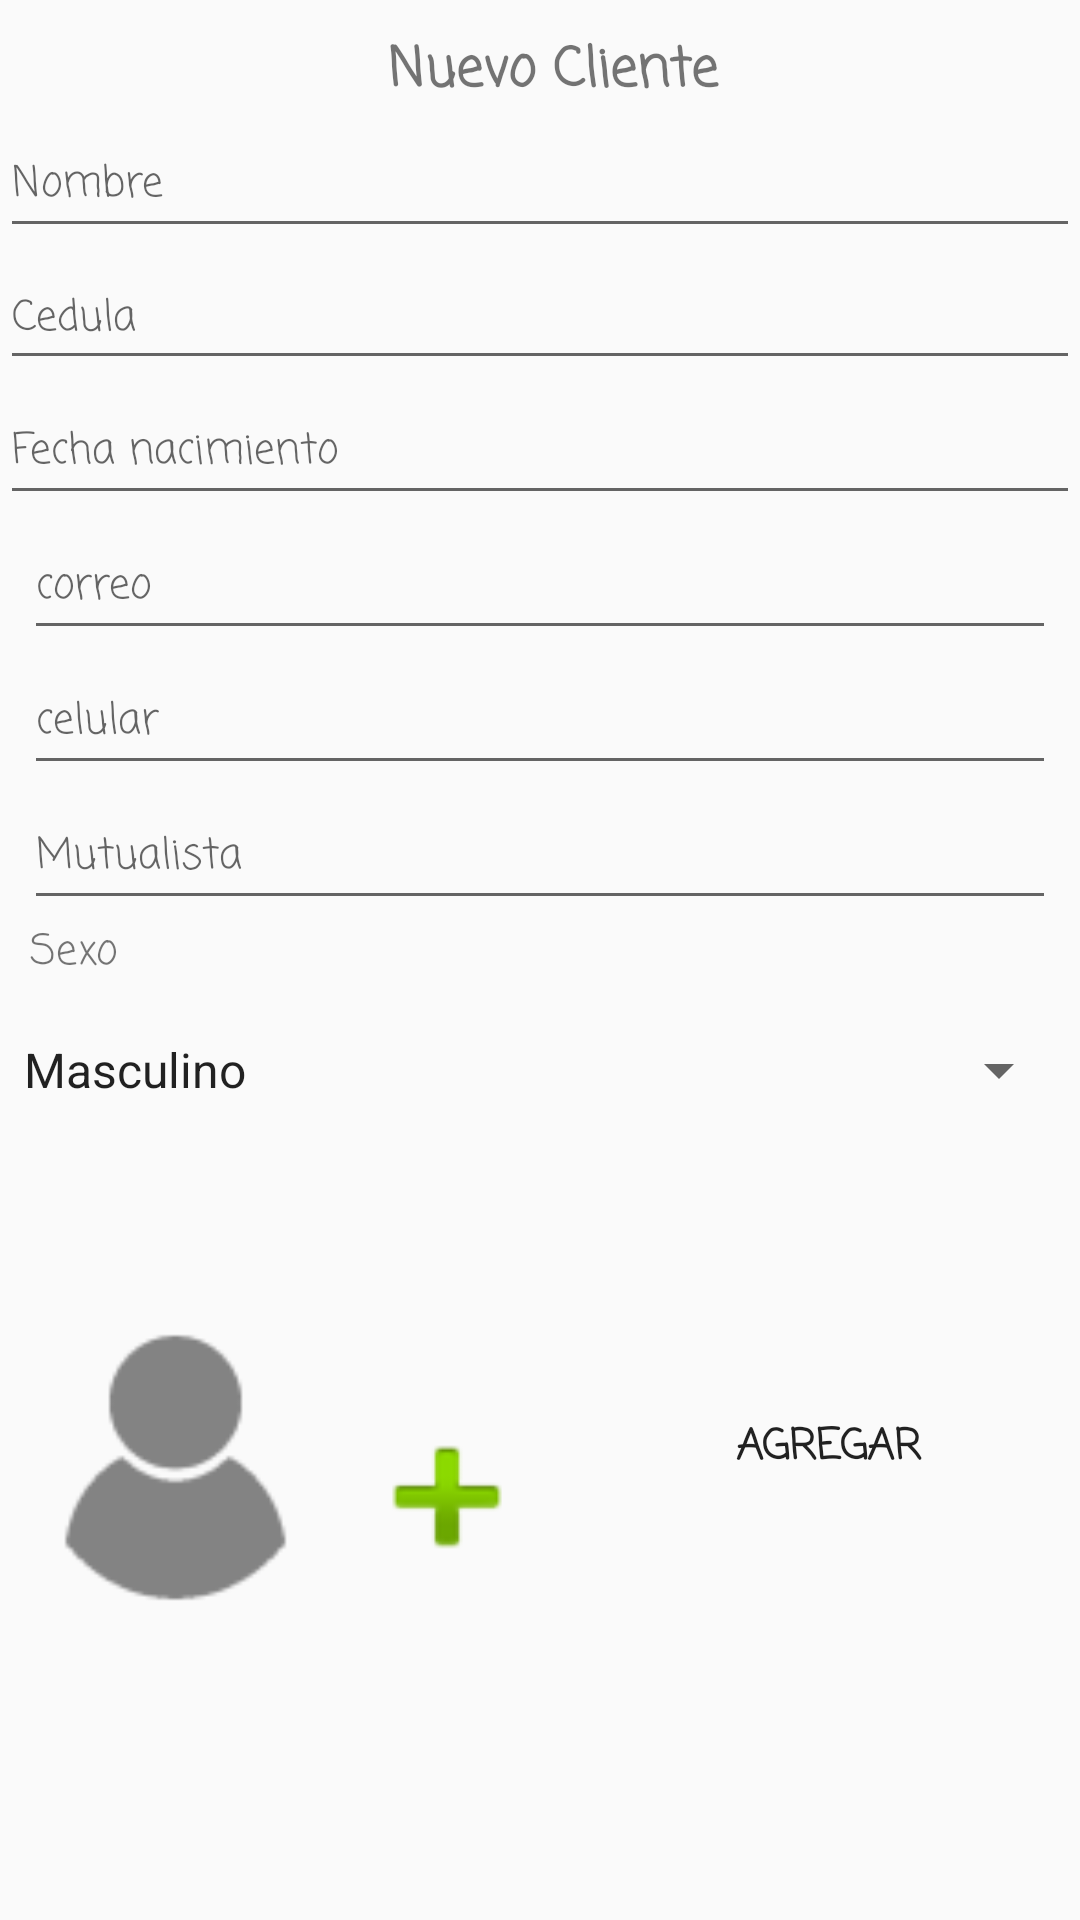

Locate icon controls on the screen. Image size 1080x1920, boxes as (x1, y1, x2, y2).
add: (392, 1446, 502, 1548)
socios: (65, 1335, 286, 1600)
